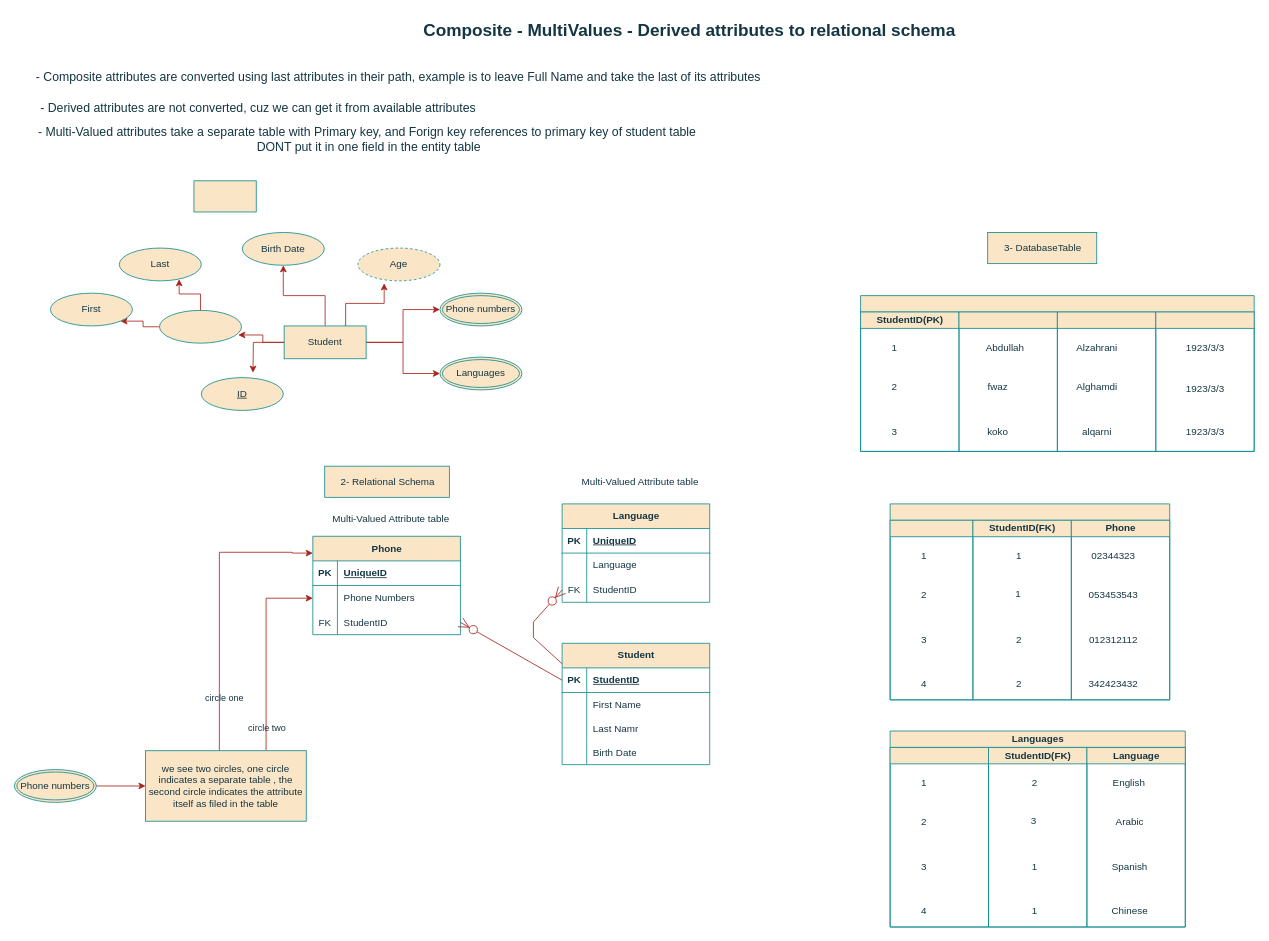
Some shapes in this 1269 by 941 pixel diagram are drawn without their labels. The shapes that lost their labels are listed below. From the top down, each one's box as (x1, y1, x2, y2) in pixels, then its label:
(193, 180, 256, 212): 1- ERD
(159, 310, 241, 343): Full Name
(958, 311, 1057, 451): FirstName
(860, 295, 1254, 451): Students
(1057, 311, 1156, 451): LastName
(1155, 311, 1254, 451): BirthDate
(889, 519, 973, 700): PhoneID(PK)
(889, 503, 1170, 700): PhoneNumbers
(889, 747, 989, 927): LanguageID(PK)
